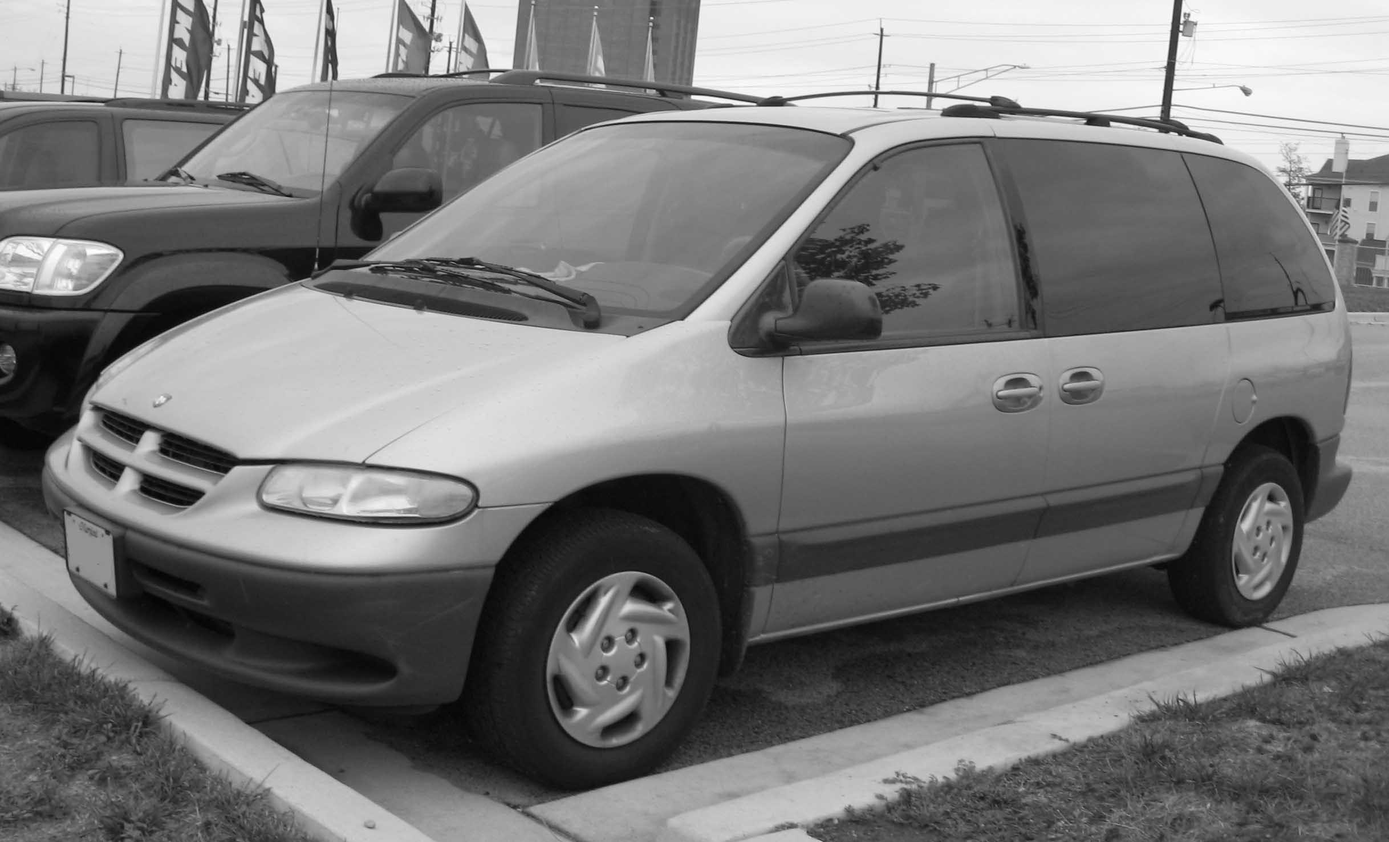car: (47, 76, 1368, 779)
